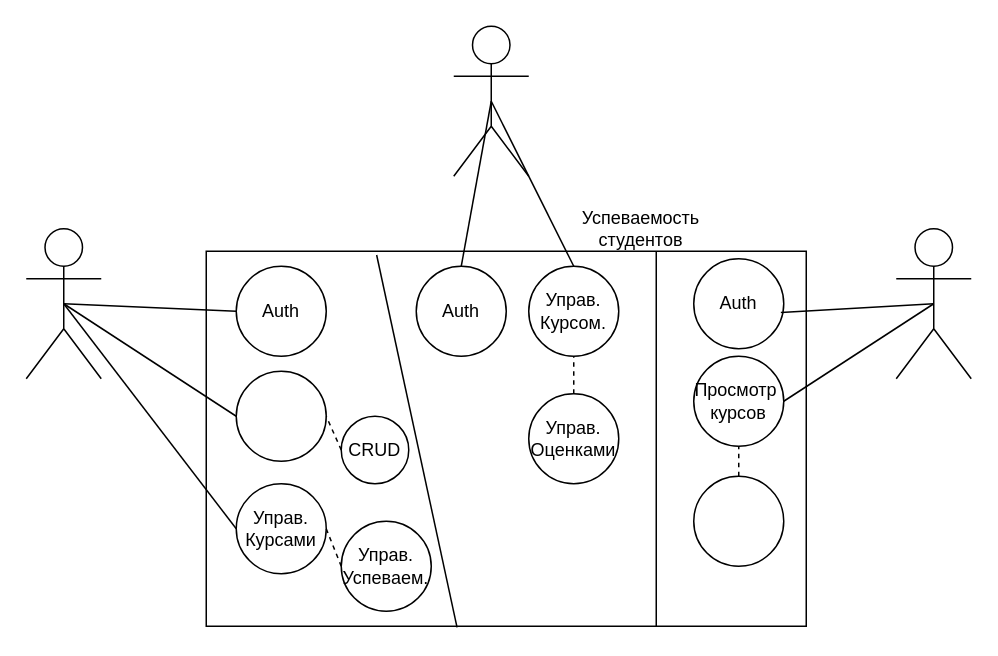
Image size: 998x656. Some labels were removed from this diagram. Each missing label, with the box of its shape:
Admin: (25, 227, 101, 379)
Professor: (452, 25, 529, 176)
Student: (895, 227, 971, 379)
Просмотр Успеваем.: (692, 475, 784, 566)
Управ. Пользов.: (235, 370, 326, 461)
